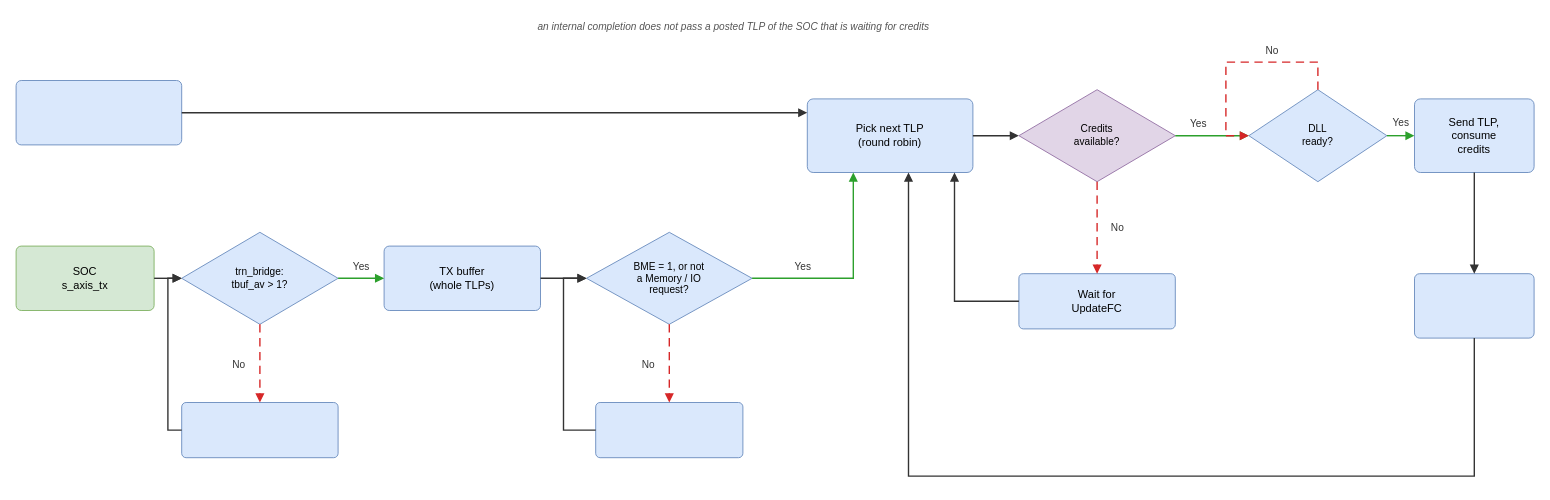
The diagram is 1550 pixels wide and 500 high, and some of its shapes have lost their labels. Here are the shapes that lost their labels. From the top down, the centre of each, then its label:
At (98,112): "cpl_gen Cpl, CplD, Msg".
At (1474,305): "Wait until ready drops".
At (259,430): "SOC held: tready low".
At (669,430): "Waits in the TX buffer".
